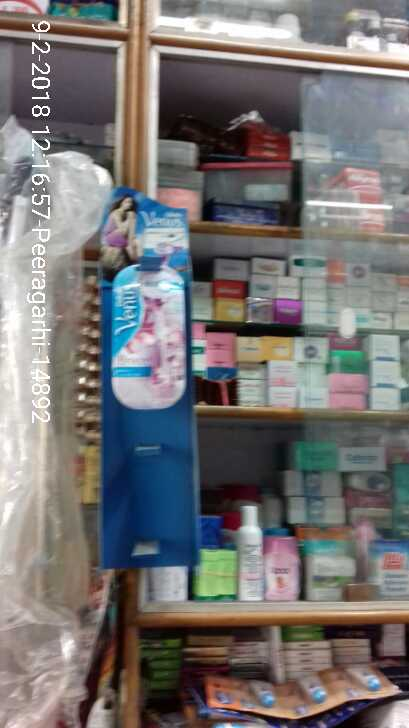venus: (114, 267, 191, 412)
